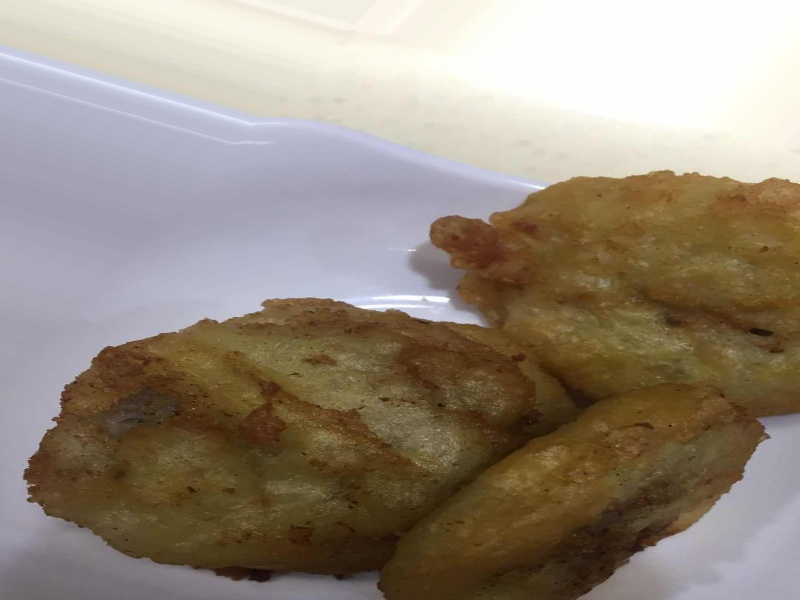patato: (38, 125, 797, 595)
